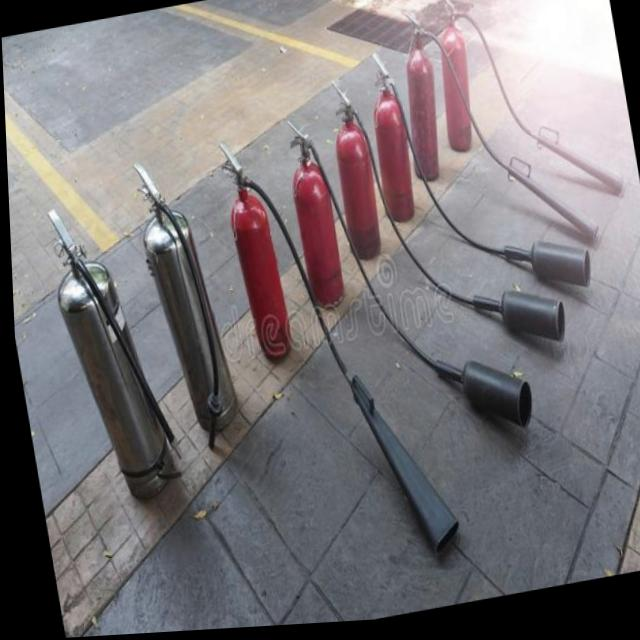FireExtinguisher: (211, 111, 462, 594), (274, 83, 538, 475), (316, 48, 571, 391), (352, 20, 594, 331), (385, 0, 603, 284), (35, 188, 186, 519), (419, 0, 627, 232), (123, 146, 242, 464)
